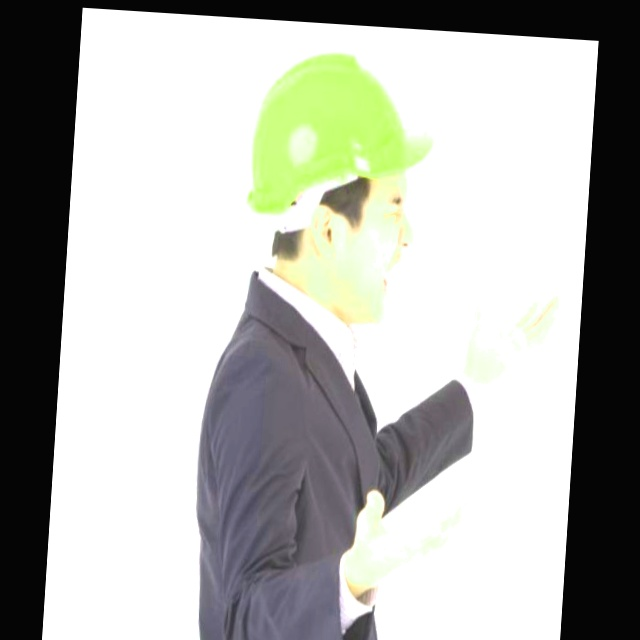Con_Casco: (239, 46, 441, 330)
Sin_Chaleco: (182, 294, 420, 640)
